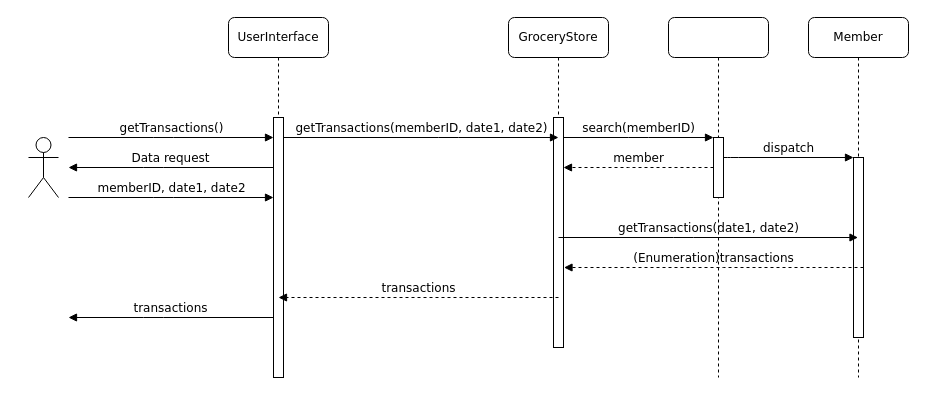
The diagram is 926 pixels wide and 395 high, and some of its shapes have lost their labels. The shapes that lost their labels are listed below. From the top down, each one's centre as x and y in pixels, then its label:
At pixel 43 167: "Employee".
At pixel 718 197: "MemberList".
